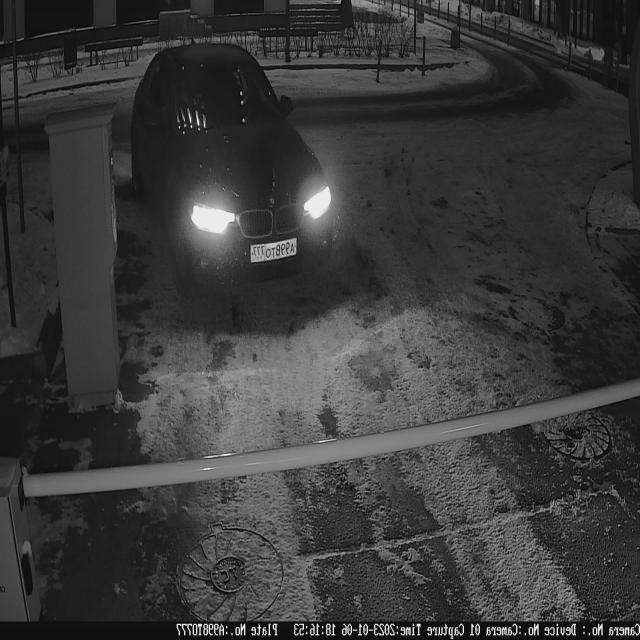car-plate-numbers: (247, 235, 299, 272)
